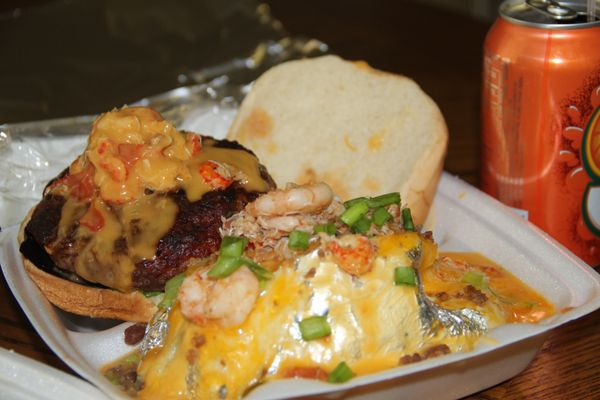soup: (8, 49, 493, 391), (226, 54, 447, 231)
